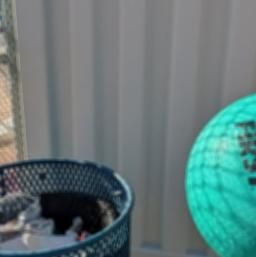algae: (186, 87, 256, 257)
